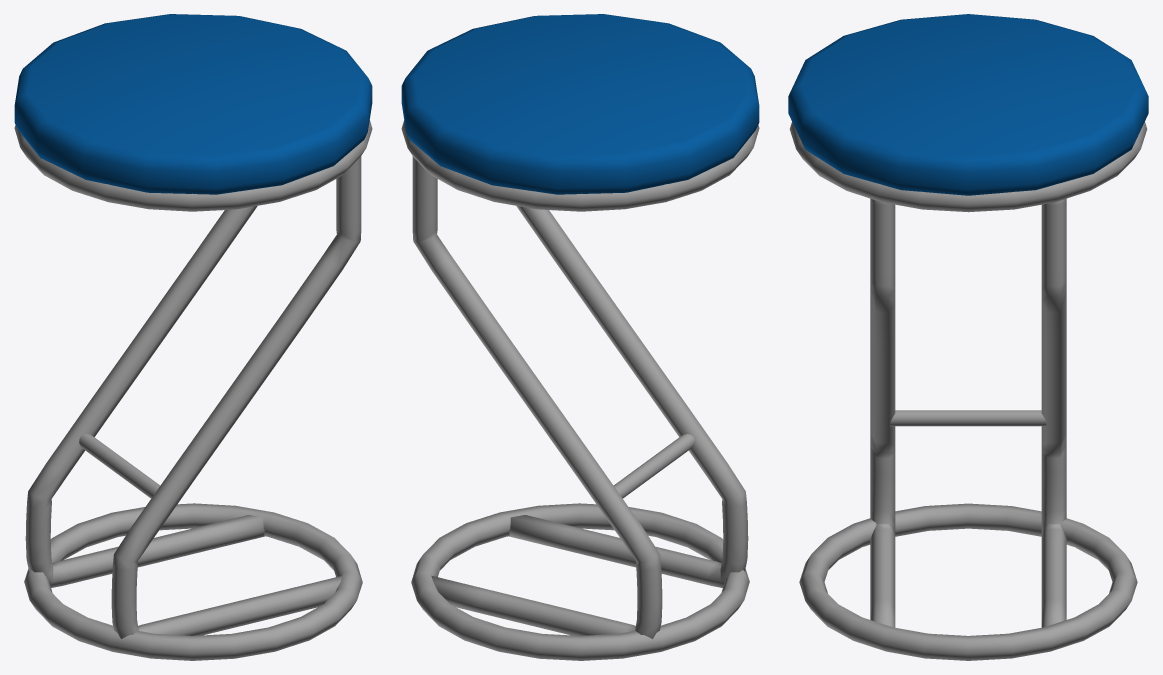
Rendered from Bar Chair08.fbx.
The picture shows the model from 3 angles, left to right: view 1: azimuth 30°, elevation 25°; view 2: azimuth 150°, elevation 25°; view 3: azimuth 270°, elevation 25°; orthographic projection.
Parts seen in each view (by area): view 1: Bar Chair08; view 2: Bar Chair08; view 3: Bar Chair08.
Boxes of the visible parts, bbox=[...] form: Bar Chair08: bbox=[14, 14, 372, 660]; Bar Chair08: bbox=[401, 14, 759, 660]; Bar Chair08: bbox=[788, 14, 1148, 660].
Bounding box in the file's own units: 0.2651 × 0.2651 × 0.4117.
